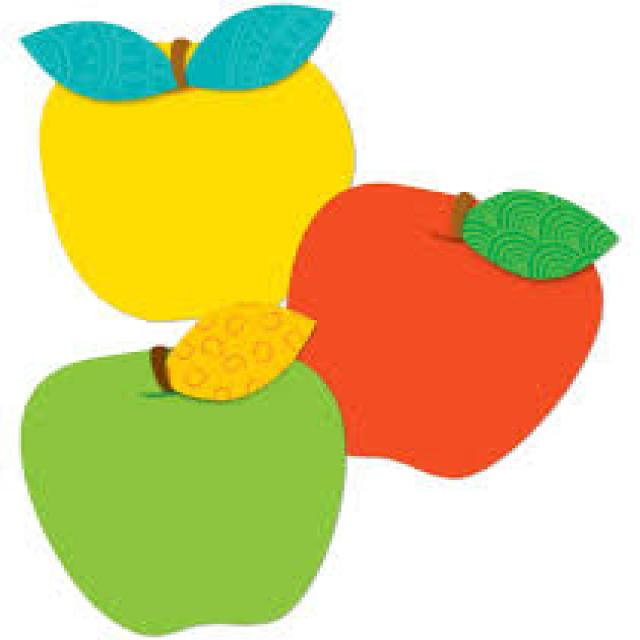Apple: (299, 182, 602, 472), (22, 351, 334, 631)
